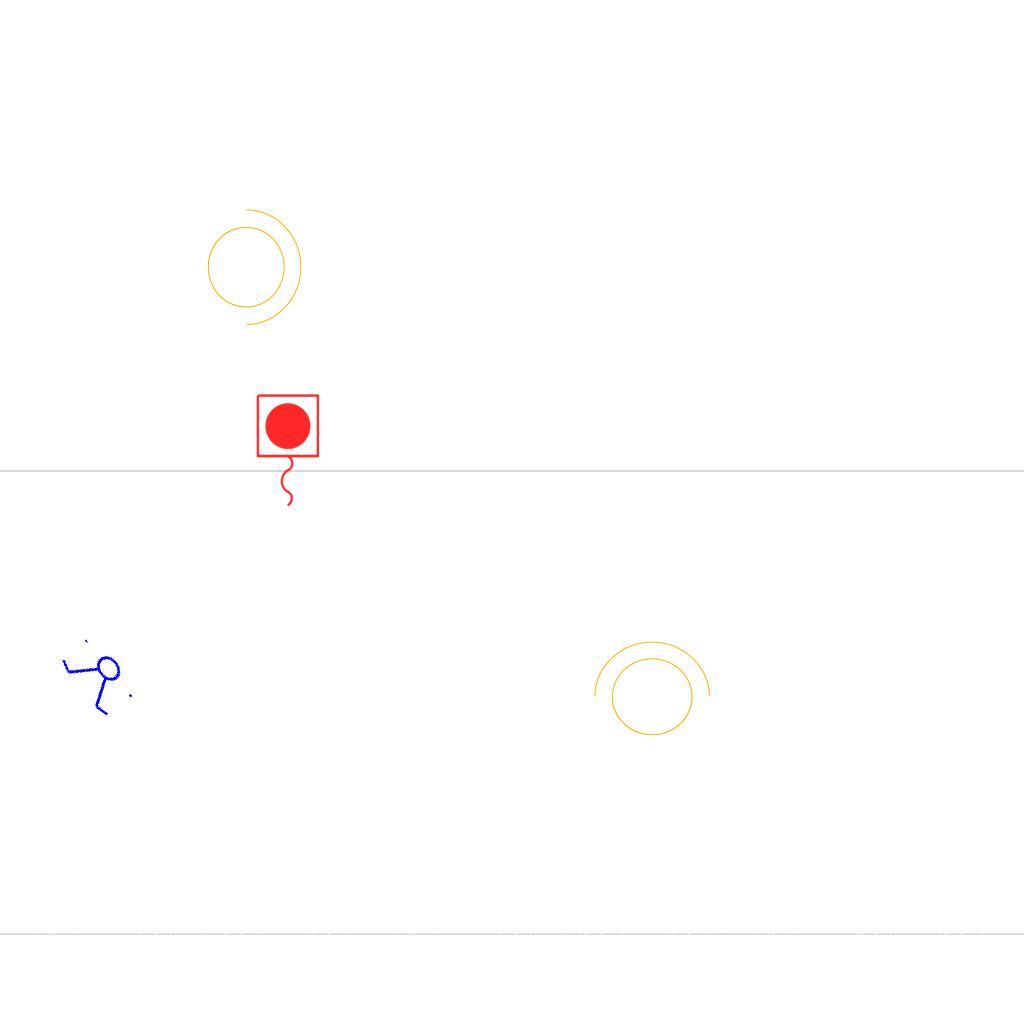Scheinwerfer_fuer_Alarmbeleuchtung: (195, 198, 307, 330), (583, 636, 715, 748)
Serienschalter: (53, 629, 145, 725)
Zugtaster: (251, 390, 323, 512)
